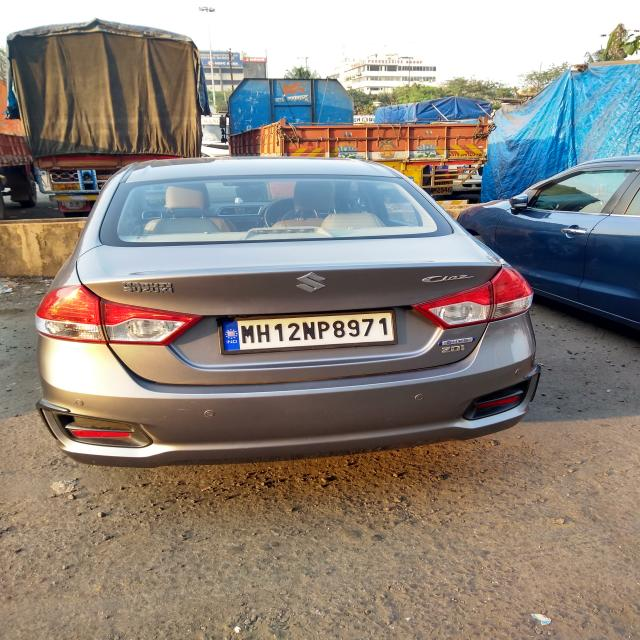Number-Plate: (222, 312, 398, 349)
